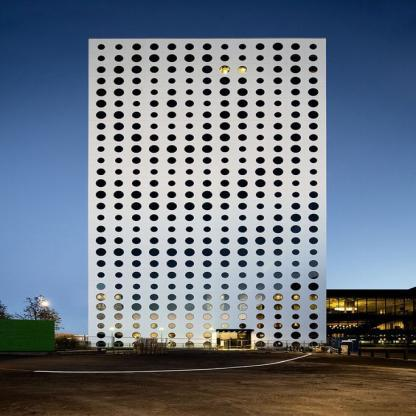Building Outline: (87, 38, 327, 351)
Door: (238, 340, 249, 348)
Facade: (87, 38, 327, 350)
Glass Wall: (216, 332, 237, 348)
